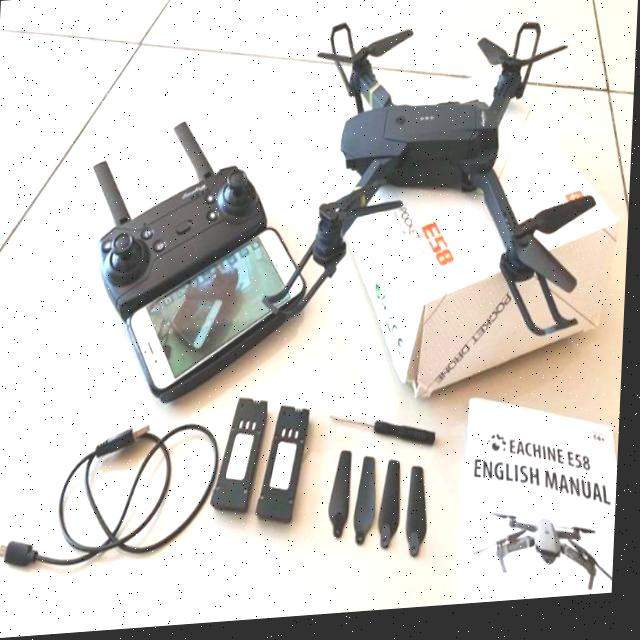drone: (273, 9, 616, 370), (480, 503, 621, 611)
